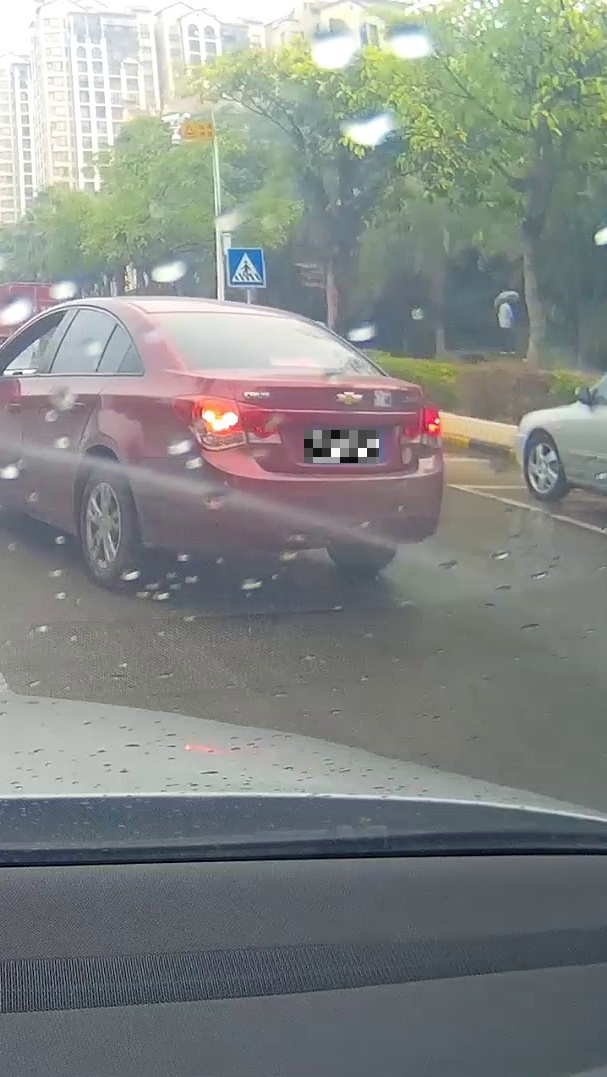L_light: (169, 393, 284, 450)
R_light: (399, 403, 443, 450)
T_light: (269, 355, 323, 368)
day-left: (132, 298, 444, 590)
plate_1: (304, 430, 379, 463)
